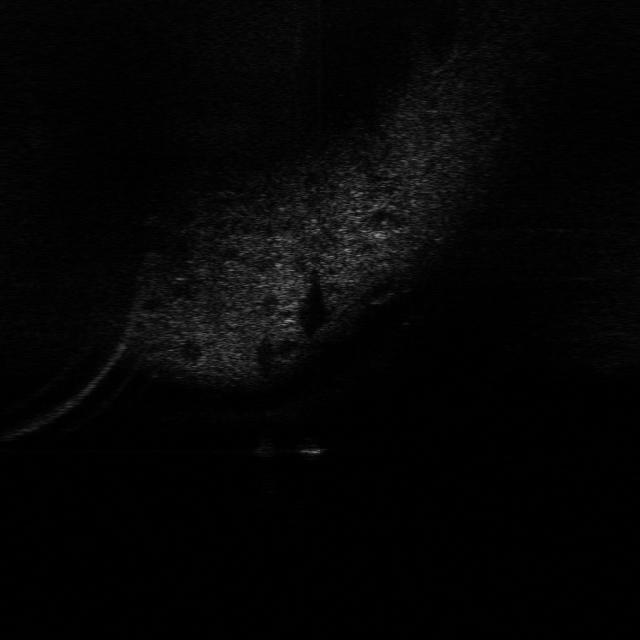cube: (293, 433, 327, 462)
cylinder: (248, 431, 278, 462)
